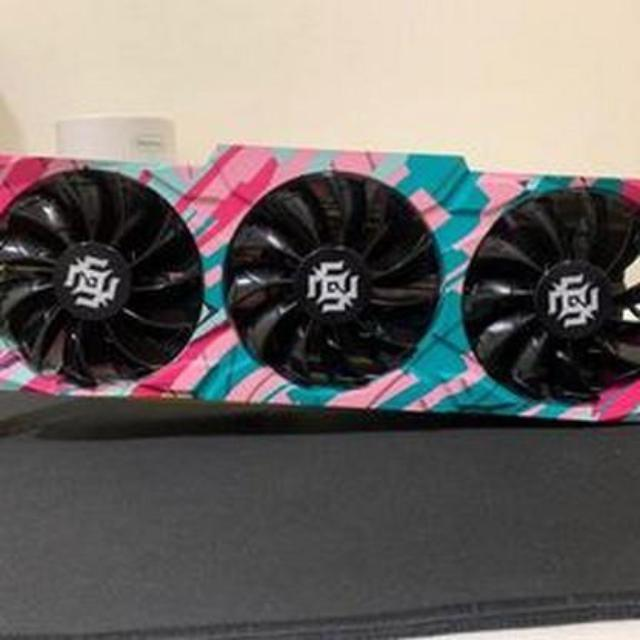GPU: (0, 129, 640, 426)
